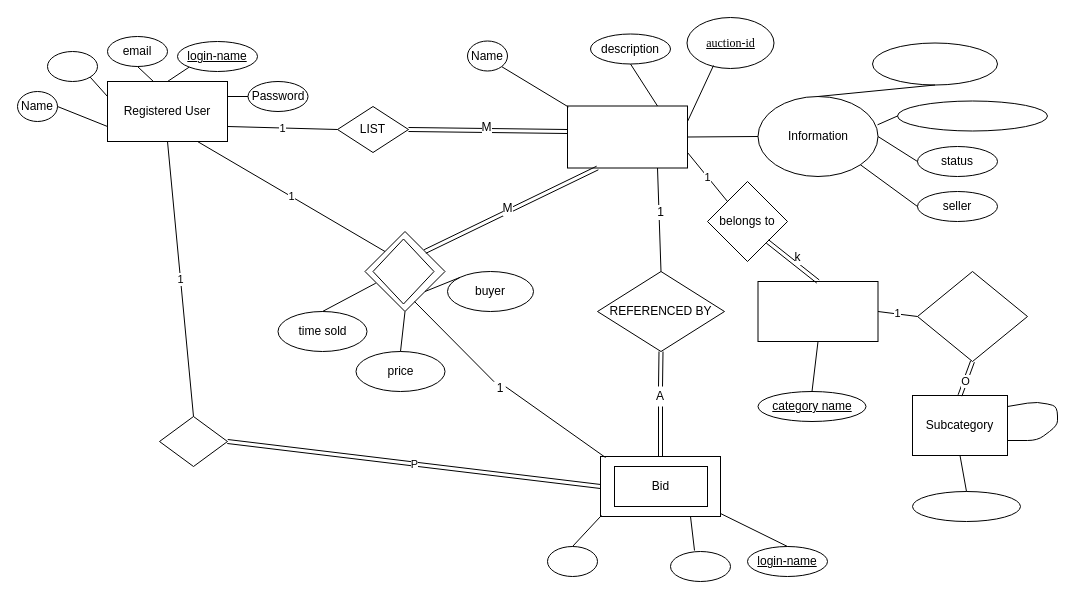
This 1076x599 diagram has some shape labels left out. The shapes that lost their labels are listed below. From the top down, each one's centre as x and y in pixels, then its label:
At point (72, 66): "address".
At point (935, 63): "auction starting date".
At point (972, 115): "min acceptable price".
At point (627, 136): "Product".
At point (403, 271): "Sold".
At point (817, 311): "category".
At point (972, 316): "IS DIVIDED TO".
At point (193, 441): "BIDS ON".
At point (966, 506): "subcategory name".
At point (572, 561): "date".
At point (700, 566): "amount".
